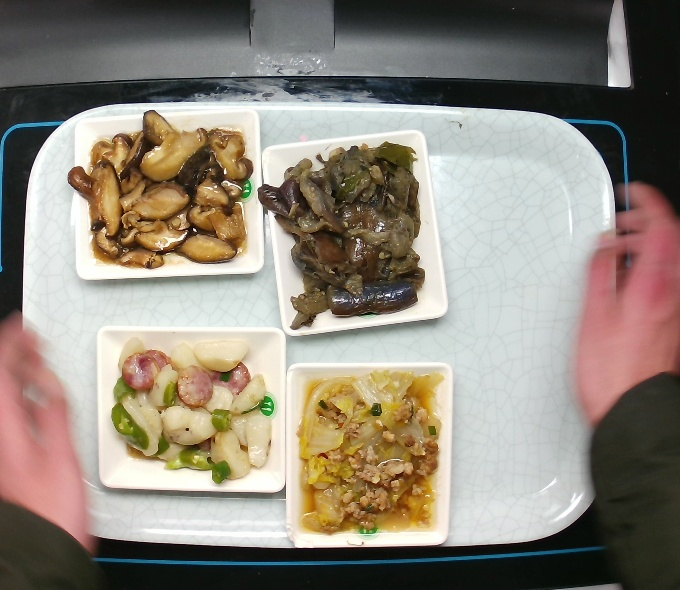wcq-MaTiGuo: (107, 333, 276, 489)
wcq-MoGu: (64, 108, 254, 272)
wcq-QieZi: (255, 138, 429, 334)
wcq-RouMoBaiCai: (295, 365, 448, 537)
